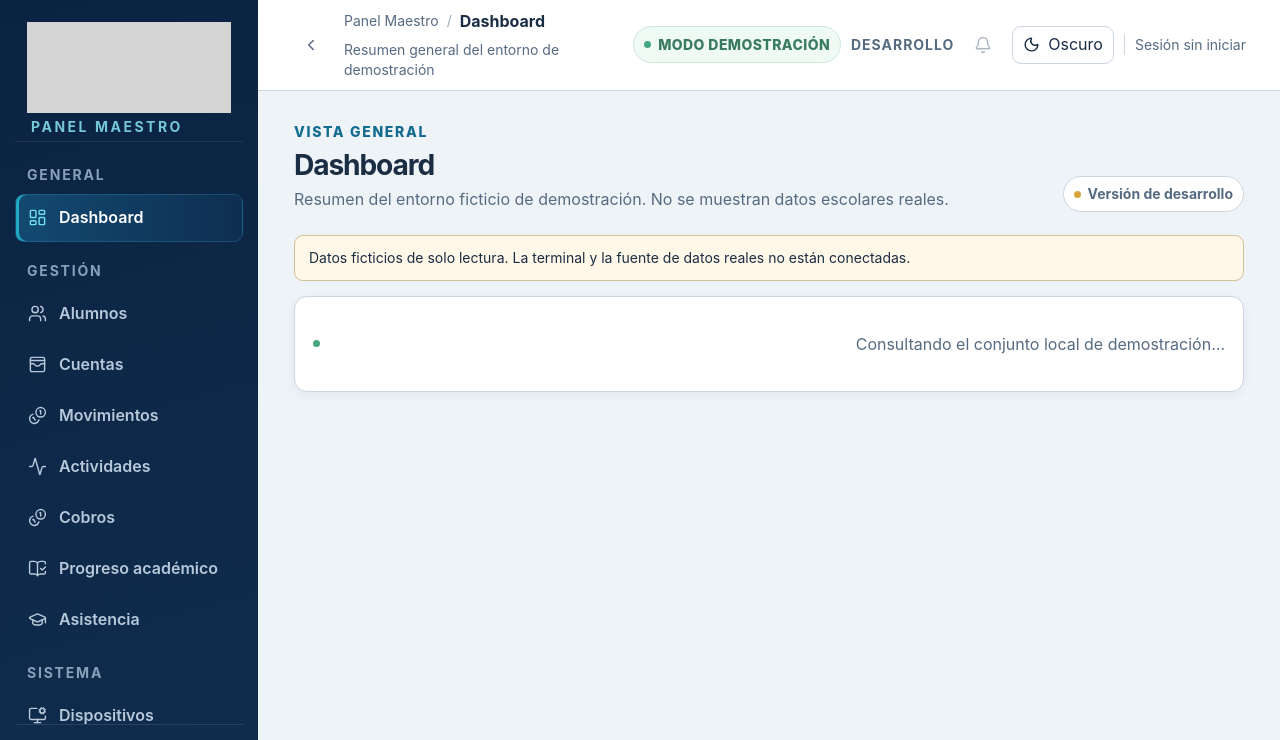
Scenario: Panel Maestro PM.2 › navigates between modules from the persistent sidebar
Click the link "Alumnos". click: click(78, 313)
box: [28, 303, 127, 323]
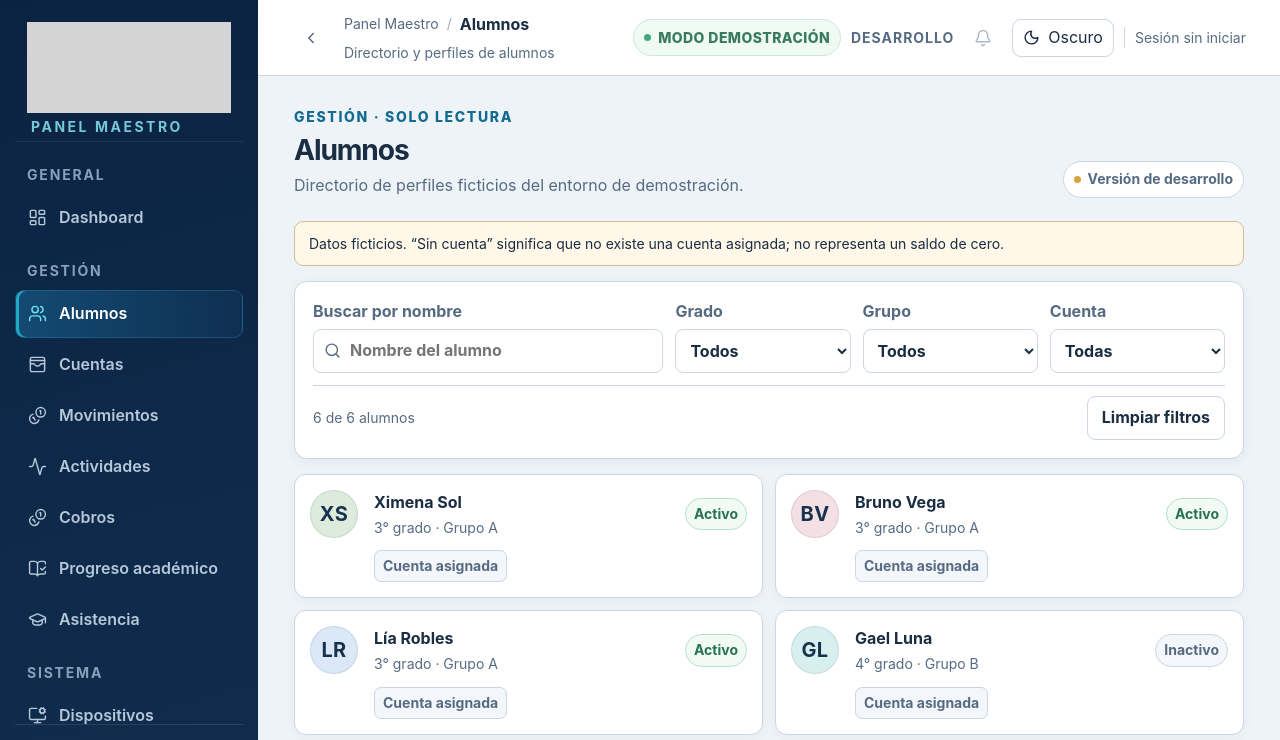
Check: the heading "Alumnos" is shown, box [294, 133, 409, 167]
Check: the text "Directorio de perfiles ficticios del entorno de demostración." is shown, box [294, 173, 744, 198]
